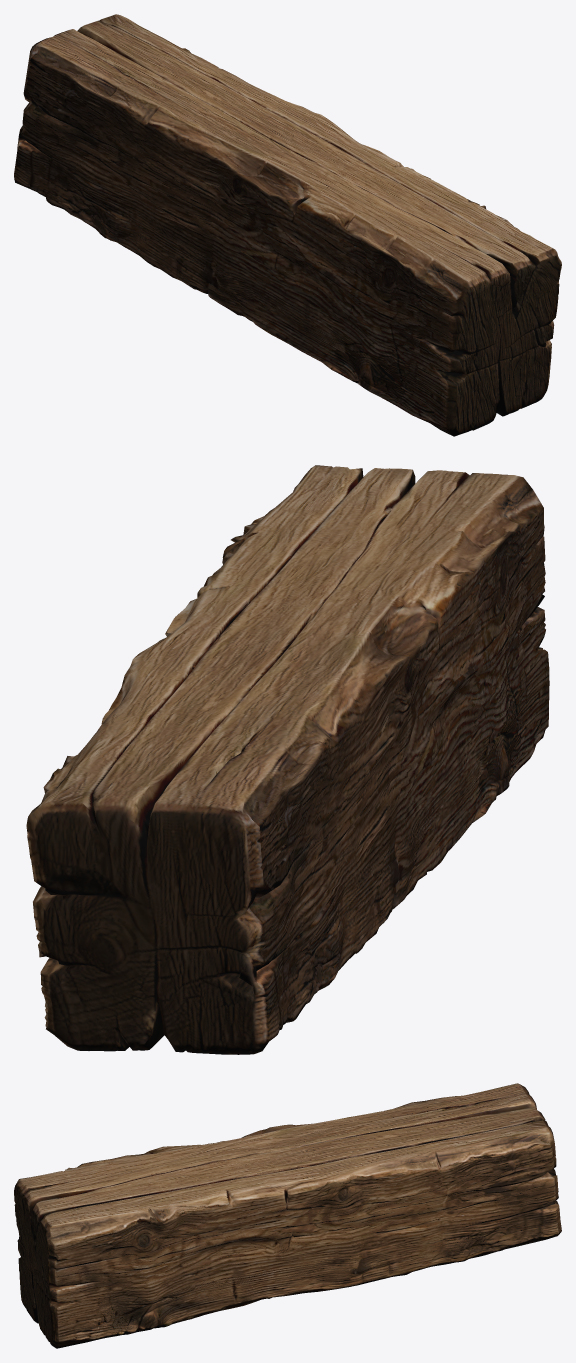
3 renders of one model, top to bottom at view 1: azimuth 30°, elevation 25°; view 2: azimuth 150°, elevation 25°; view 3: azimuth 270°, elevation 25°, orthographic. The views are drawn at different scales.
Visible parts, largest first — view 1: tripo_node_d474aef2-6c2b-4324-a7f7-10365209973d; view 2: tripo_node_d474aef2-6c2b-4324-a7f7-10365209973d; view 3: tripo_node_d474aef2-6c2b-4324-a7f7-10365209973d.
Part boxes in pixels (x1,y1,x2,y2): tripo_node_d474aef2-6c2b-4324-a7f7-10365209973d: (14,14,561,436); tripo_node_d474aef2-6c2b-4324-a7f7-10365209973d: (26,465,549,1054); tripo_node_d474aef2-6c2b-4324-a7f7-10365209973d: (14,1083,561,1348).
Size of the model in its own units: 0.4586 by 0.3452 by 0.9795.
Materials: 1 (1 with a texture image).
